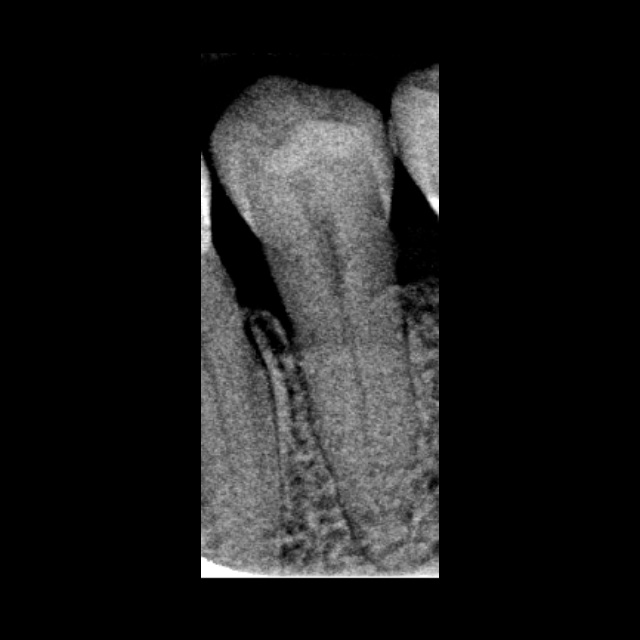tooth: (214, 78, 438, 572)
